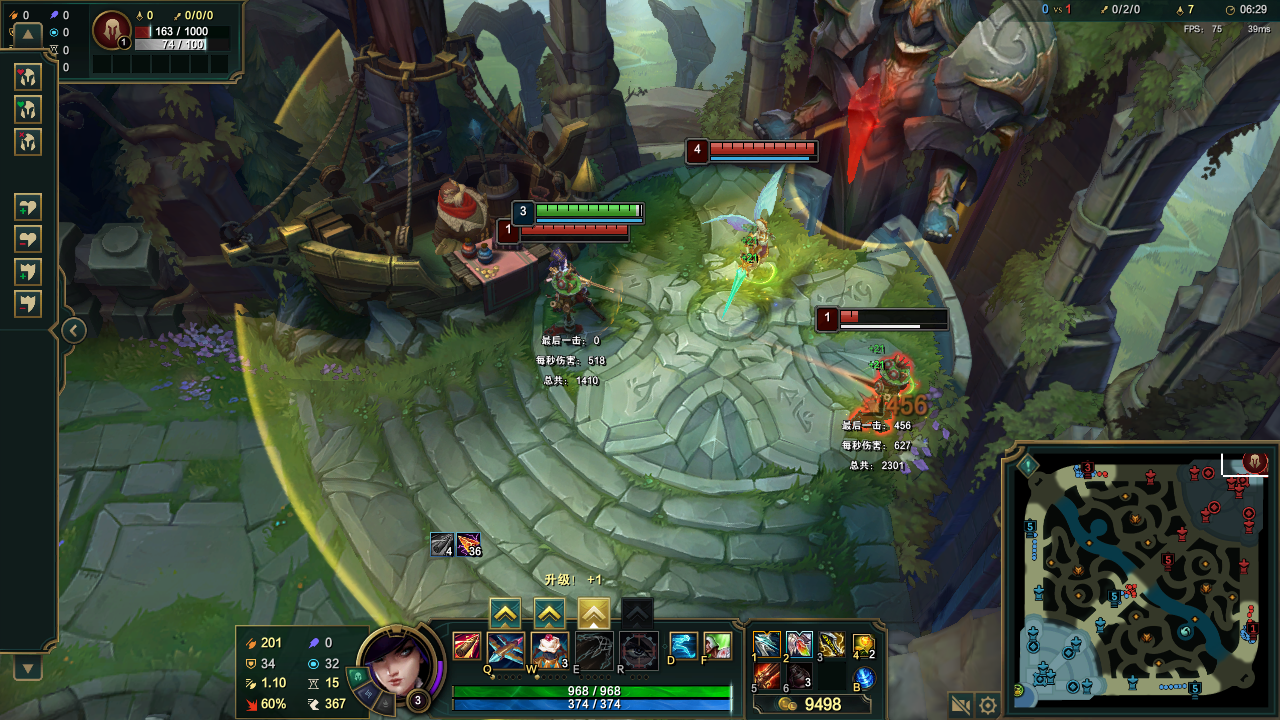DFYX: (840, 304, 952, 323), (712, 141, 830, 156), (522, 227, 634, 234)
